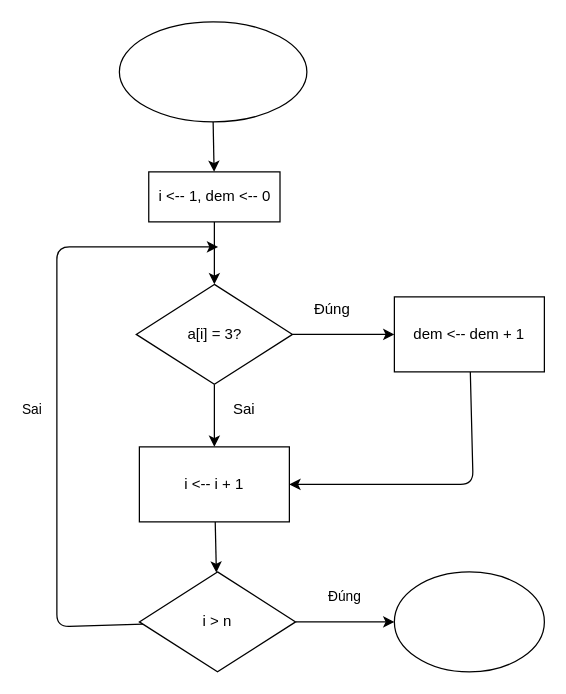
The diagram is 566 pixels wide and 694 high, and some of its shapes have lost their labels. The box of each missing label's shape, as (x1, y1, x2, y2) in pixels:
In ra giá trị của dem, kết thúc chương trình: (393, 571, 544, 672)
Nhập N, a1, a2, ..., an: (118, 21, 307, 122)
